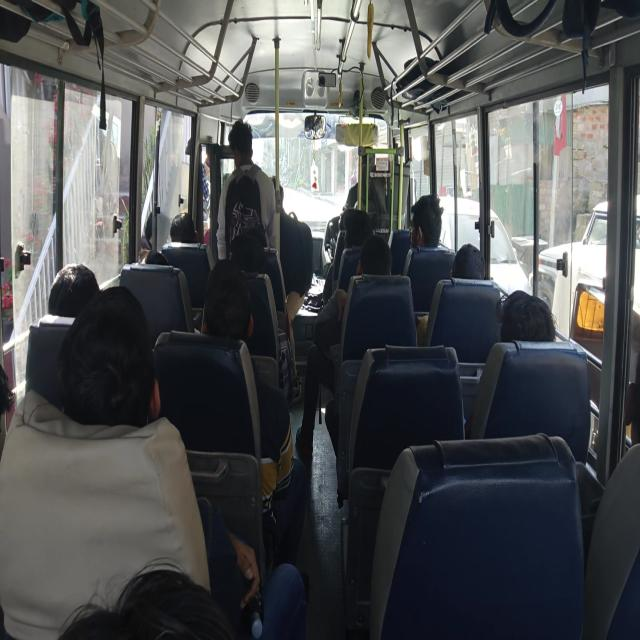person: (51, 543, 264, 640), (76, 286, 160, 444), (479, 278, 553, 365), (595, 354, 640, 494), (36, 250, 90, 318), (177, 198, 220, 258), (405, 200, 453, 248), (228, 114, 266, 170), (246, 218, 284, 272), (208, 274, 249, 323), (358, 226, 388, 284), (228, 246, 268, 282), (449, 240, 481, 280), (337, 208, 371, 245), (153, 240, 174, 281)
